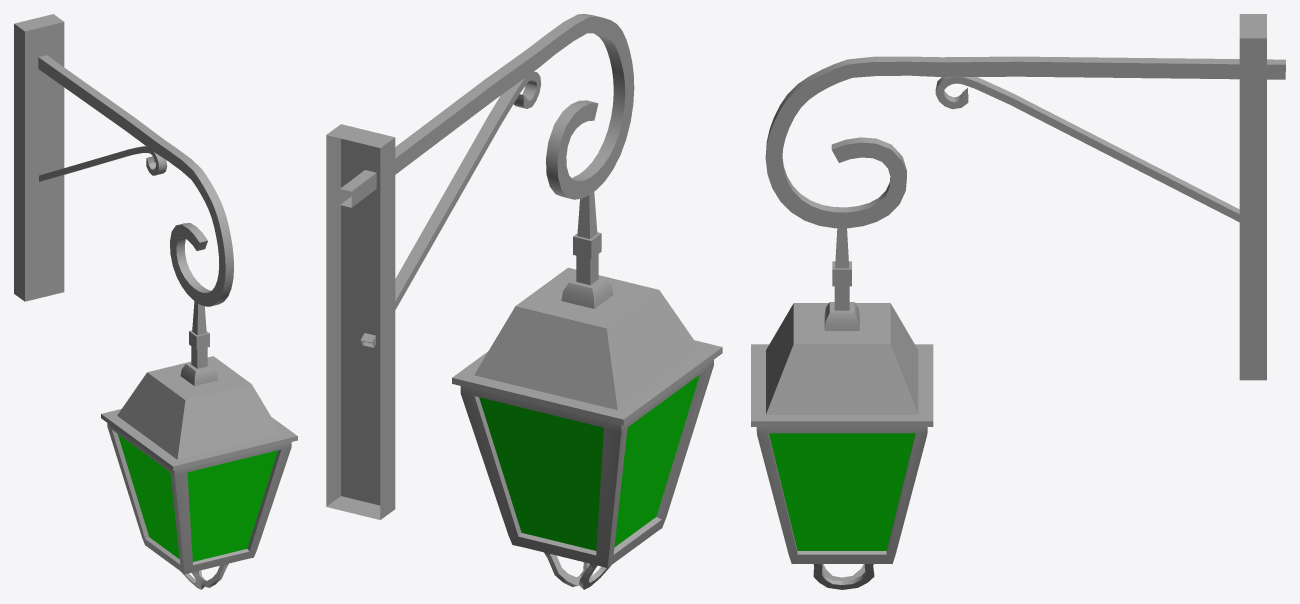
File: SM_Lanterne.fbx
3 views of the same model, side by side, from view 1: azimuth 30°, elevation 25°; view 2: azimuth 150°, elevation 25°; view 3: azimuth 270°, elevation 25° (orthographic). The views are drawn at different scales.
Visible parts, largest first — view 1: Lanterne1, pCube67, sweep1, sweep2; view 2: Lanterne1, pCube67, sweep1, sweep2, sweep3; view 3: Lanterne1, sweep1, pCube67, sweep2, sweep3.
Boxes of the visible parts, x1=… form: Lanterne1: x1=101, y1=301, x2=297, y2=574; pCube67: x1=14, y1=14, x2=64, y2=301; sweep1: x1=38, y1=55, x2=233, y2=306; sweep2: x1=39, y1=146, x2=167, y2=181; Lanterne1: x1=452, y1=192, x2=722, y2=568; pCube67: x1=326, y1=124, x2=395, y2=519; sweep1: x1=340, y1=14, x2=634, y2=207; sweep2: x1=360, y1=71, x2=541, y2=347; sweep3: x1=544, y1=552, x2=592, y2=586; Lanterne1: x1=751, y1=228, x2=933, y2=564; sweep1: x1=765, y1=56, x2=1285, y2=228; pCube67: x1=1239, y1=14, x2=1266, y2=380; sweep2: x1=935, y1=76, x2=1239, y2=222; sweep3: x1=813, y1=564, x2=874, y2=589.
Size of the model in its own units: 51.33 by 175 by 151.
